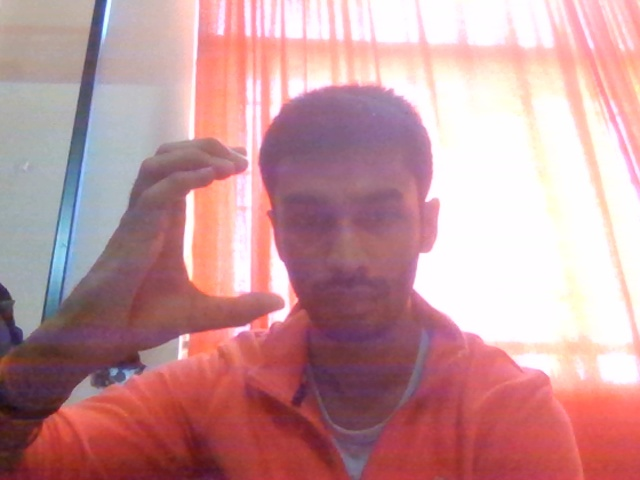C: (45, 127, 287, 389)
